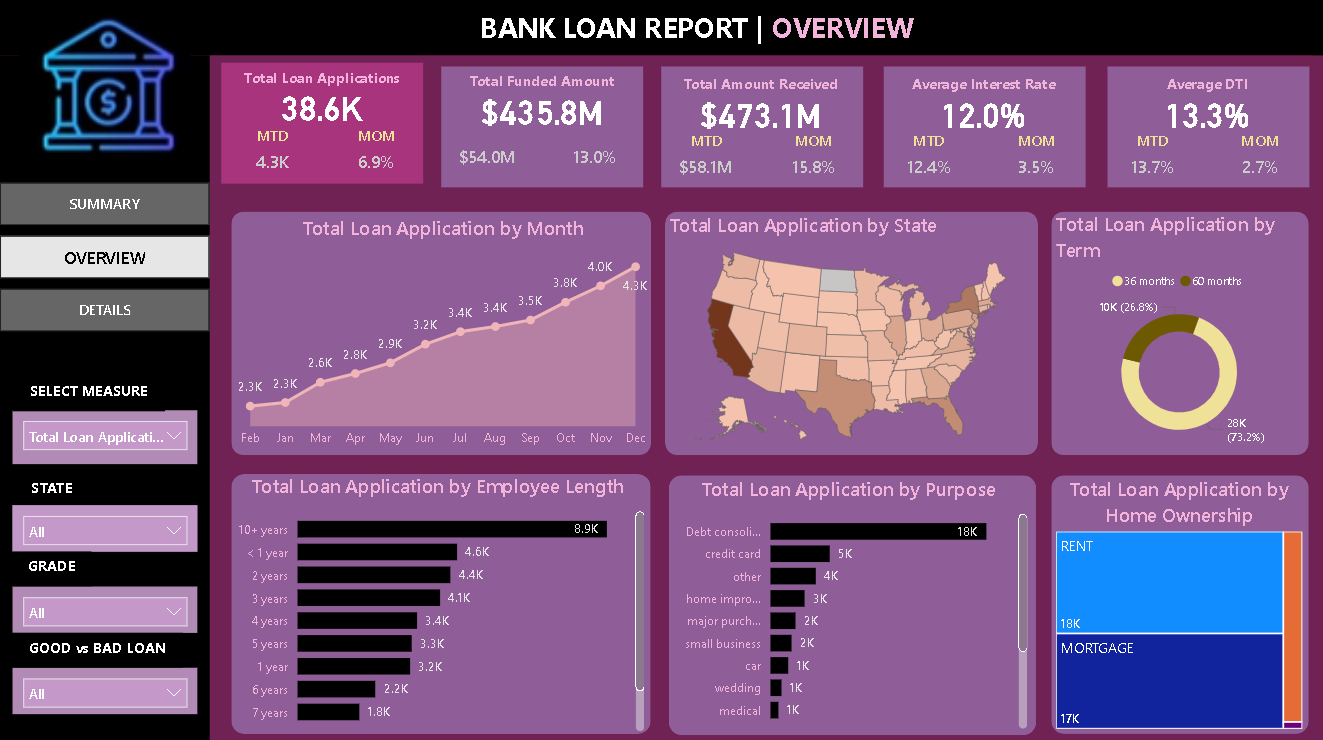

What the dashboard file says about the page in this screenshot:
{"tool":"powerbi","page":{"name":"OVERVIEW","canvas":[1280,720],"ordinal":1},"visuals":[{"type":"shape","box":[0,0,1280,54.3],"z":0},{"type":"shape","box":[213.2,62.1,194.9,116.6],"z":0,"group":"g1"},{"type":"shape","box":[426.7,64.8,194.9,116.6],"z":0,"group":"g2"},{"type":"shape","box":[638.1,64.8,194.9,116.6],"z":0,"group":"g3"},{"type":"shape","box":[852.6,64.8,194.9,116.6],"z":0,"group":"g4"},{"type":"shape","box":[1068.4,64.8,194.9,116.6],"z":0,"group":"g5"},{"type":"shape","box":[1014.9,205,248.5,235.3],"z":0,"group":"g9"},{"type":"shape","box":[641.8,205.1,360,235.3],"z":0,"group":"g6"},{"type":"shape","box":[223.8,205.4,405.4,235.3],"z":0,"group":"g8"},{"type":"shape","box":[223.6,458.4,405,251],"z":0,"group":"g10"},{"type":"shape","box":[645.4,459.7,354.7,250.9],"z":0,"group":"g11"},{"type":"shape","box":[1014.6,459.7,248.5,249.7],"z":0,"group":"g12"},{"type":"textbox","box":[458.4,3.6,437.9,50.7],"z":1000},{"type":"card","fields":{"Values":["Bank_loan_data.Total Loan Application"]},"box":[213.2,62.1,194.9,85.1],"z":1000,"group":"g1"},{"type":"card","fields":{"Values":["Bank_loan_data.Total Funded Amount"]},"box":[426.7,64.8,194.9,85.1],"z":1000,"group":"g2"},{"type":"card","fields":{"Values":["Bank_loan_data.Total Amount Received"]},"box":[637.2,66.8,194.9,85.1],"z":1000,"group":"g3"},{"type":"card","fields":{"Values":["Bank_loan_data.Avg Interest Rate"]},"box":[851.7,66.8,194.9,85.1],"z":1000,"group":"g4"},{"type":"card","fields":{"Values":["Bank_loan_data.Average DTI"]},"box":[1067.5,66.8,194.9,85.1],"z":1000,"group":"g5"},{"type":"areaChart","fields":{"Y":["Bank_loan_data.Total Loan Application"],"Category":["Date Table.Month"]},"box":[223.5,208.1,409,234],"z":1000,"group":"g8"},{"type":"shape","box":[0,54.3,202.7,666],"z":1500,"group":"g7"},{"type":"group","id":"g1","title":"Group 1","box":[213.2,62.1,194.3,116],"z":2000},{"type":"textbox","box":[213.2,62.1,194.9,31.6],"z":2000,"group":"g1"},{"type":"textbox","box":[426.7,64.8,194.9,31.6],"z":2000,"group":"g2"},{"type":"textbox","box":[637.2,66.8,194.9,31.6],"z":2000,"group":"g3"},{"type":"textbox","box":[851.7,66.8,194.9,31.6],"z":2000,"group":"g4"},{"type":"textbox","box":[1067.5,66.8,194.9,31.6],"z":2000,"group":"g5"},{"type":"group","id":"g2","title":"Group 1","box":[426.3,64.8,194.3,116],"z":3000},{"type":"card","title":"MTD","fields":{"Values":["Bank_loan_data.MTD Loan Application"]},"box":[213.6,123.2,98.8,54.9],"z":3000,"group":"g1"},{"type":"card","title":"MTD","fields":{"Values":["Bank_loan_data.MTD Funded Amount"]},"box":[426.3,125.9,89.2,54.9],"z":3000,"group":"g2"},{"type":"card","title":"MTD","fields":{"Values":["Bank_loan_data.MTD Received Amount"]},"box":[636.8,127.9,89.2,54.9],"z":3000,"group":"g3"},{"type":"card","title":"MTD","fields":{"Values":["Bank_loan_data.MTD Avg Interest Rate"]},"box":[851.3,127.9,89.2,54.9],"z":3000,"group":"g4"},{"type":"card","title":"MTD","fields":{"Values":["Bank_loan_data.MTD DTI"]},"box":[1067.1,127.9,89.2,54.9],"z":3000,"group":"g5"},{"type":"shape","box":[1265.6,42.2,14.5,12.1],"z":4000,"group":"g7"},{"type":"group","id":"g3","title":"Group 1","box":[636.8,64.8,197,117.4],"z":4000},{"type":"card","title":"MOM","fields":{"Values":["Bank_loan_data.MOM Loan Applications"]},"box":[317.9,123.2,89.2,54.9],"z":4000,"group":"g1"},{"type":"card","title":"MOM","fields":{"Values":["Bank_loan_data.MOM Total Funded Amount"]},"box":[529.4,125.9,91.9,54.9],"z":4000,"group":"g2"},{"type":"card","title":"MOM","fields":{"Values":["Bank_loan_data.MOM Total Amount Received"]},"box":[739.9,127.9,91.9,54.9],"z":4000,"group":"g3"},{"type":"card","title":"MOM","fields":{"Values":["Bank_loan_data.MOM total Received Amount"]},"box":[954.4,127.9,91.9,54.9],"z":4000,"group":"g4"},{"type":"card","title":"MOM","fields":{"Values":["Bank_loan_data.MOM DTI"]},"box":[1170.2,127.9,91.9,54.9],"z":4000,"group":"g5"},{"type":"group","id":"g4","title":"Group 1","box":[851.3,64.8,197,117.4],"z":5000},{"type":"group","id":"g5","title":"Group 1","box":[1067.1,64.8,197,117.4],"z":6000},{"type":"group","id":"g6","title":"Group 3","box":[641.8,205.1,360,235.3],"z":7000},{"type":"group","id":"g7","title":"Group 4","box":[0,42.2,1280,678],"z":8000},{"type":"slicer","fields":{"Values":["Bank_loan_data.address_state"]},"box":[12.1,488.6,178.6,44.6],"z":9000},{"type":"slicer","fields":{"Values":["Bank_loan_data.grade"]},"box":[12.1,567,178.6,44.6],"z":10000},{"type":"textbox","box":[12.1,533.2,76,33.8],"z":11000},{"type":"slicer","fields":{"Values":["Bank_loan_data.Good vs Bad loan"]},"box":[12.1,645.4,178.6,44.6],"z":12000},{"type":"textbox","box":[12.1,611.7,164.1,33.8],"z":13000},{"type":"slicer","fields":{"Values":["Select Measure.Select Measure"]},"box":[12.1,396.9,178.6,51.9],"z":14000},{"type":"textbox","box":[25.3,457.2,76,33.8],"z":14002,"group":"g7"},{"type":"slicer","fields":{"Values":["Bank_loan_data.address_state"]},"box":[12.1,488.6,178.6,44.6],"z":14500,"group":"g7"},{"type":"textbox","box":[12.1,364.3,147.2,33.8],"z":15000},{"type":"group","id":"g8","title":"Group 3","box":[223.5,205.4,409,236.5],"z":16000},{"type":"shapeMap","fields":{"Value":["Bank_loan_data.Total Loan Application"],"Category":["Bank_loan_data.address_state"]},"box":[641.8,205.1,358.3,235.3],"z":17000},{"type":"group","id":"g9","title":"Group 3","box":[1014.9,205,248.5,235.3],"z":18000},{"type":"donutChart","fields":{"Y":["Bank_loan_data.Total Loan Application"],"Category":["Bank_loan_data.term"]},"box":[1014.6,203.9,247.3,235.3],"z":19000},{"type":"group","id":"g10","title":"Group 3","box":[218.4,457.2,410.2,254.6],"z":20000},{"type":"barChart","fields":{"Y":["Bank_loan_data.Total Loan Application"],"Category":["Bank_loan_data.emp_length"]},"box":[218.4,457.2,408.6,254.6],"z":20001,"group":"g10"},{"type":"group","id":"g11","title":"Group 3","box":[645.4,459.7,354.7,250.9],"z":21000},{"type":"barChart","fields":{"Y":["Bank_loan_data.Total Loan Application"],"Category":["Bank_loan_data.purpose"]},"box":[641.8,459.7,354.7,249.7],"z":22000},{"type":"group","id":"g12","title":"Group 3","box":[1014.6,459.7,248.5,249.7],"z":23000},{"type":"treemap","fields":{"Values":["Bank_loan_data.Total Loan Application"],"Group":["Bank_loan_data.home_ownership"]},"box":[1014.6,459.7,247.3,249.7],"z":24000},{"type":"pageNavigator","box":[0,177.3,202.7,144.8],"z":25000},{"type":"image","box":[0,0,202.7,179.8],"z":26000}]}

Visuals, with their boxes in screenshot pixels (x1, y1, x2, y2), scaled from the page's 1280x720 canvas onto the 1323x740 screenshot:
shape: 0,0,1322,56
shape: 220,64,422,184
shape: 441,67,642,186
shape: 660,67,861,186
shape: 881,67,1083,186
shape: 1104,67,1306,186
shape: 1049,211,1306,453
shape: 663,211,1035,453
shape: 231,211,650,453
shape: 231,471,650,729
shape: 667,472,1034,730
shape: 1049,472,1306,729
textbox: 474,4,926,56
card - Bank_loan_data.Total Loan Application: 220,64,422,151
card - Bank_loan_data.Total Funded Amount: 441,67,642,154
card - Bank_loan_data.Total Amount Received: 659,69,860,156
card - Bank_loan_data.Avg Interest Rate: 880,69,1082,156
card - Bank_loan_data.Average DTI: 1103,69,1305,156
areaChart - Bank_loan_data.Total Loan Application x Date Table.Month: 231,214,654,454
shape: 0,56,210,739
"Group 1" group: 220,64,421,183
textbox: 220,64,422,96
textbox: 441,67,642,99
textbox: 659,69,860,101
textbox: 880,69,1082,101
textbox: 1103,69,1305,101
"Group 1" group: 441,67,641,186
"MTD" card: 221,127,323,183
"MTD" card: 441,129,533,186
"MTD" card: 658,131,750,188
"MTD" card: 880,131,972,188
"MTD" card: 1103,131,1195,188
shape: 1308,43,1322,56
"Group 1" group: 658,67,862,187
"MOM" card: 329,127,421,183
"MOM" card: 547,129,642,186
"MOM" card: 765,131,860,188
"MOM" card: 986,131,1081,188
"MOM" card: 1210,131,1304,188
"Group 1" group: 880,67,1084,187
"Group 1" group: 1103,67,1307,187
"Group 3" group: 663,211,1035,453
"Group 4" group: 0,43,1322,739
slicer - Bank_loan_data.address_state: 13,502,197,548
slicer - Bank_loan_data.grade: 13,583,197,629
textbox: 13,548,91,583
slicer - Bank_loan_data.Good vs Bad loan: 13,663,197,709
textbox: 13,629,182,663
slicer - Select Measure.Select Measure: 13,408,197,461
textbox: 26,470,105,505
slicer - Bank_loan_data.address_state: 13,502,197,548
textbox: 13,374,165,409
"Group 3" group: 231,211,654,454
shapeMap - Bank_loan_data.Total Loan Application x Bank_loan_data.address_state: 663,211,1034,453
"Group 3" group: 1049,211,1306,453
donutChart - Bank_loan_data.Total Loan Application x Bank_loan_data.term: 1049,210,1304,451
"Group 3" group: 226,470,650,732
barChart - Bank_loan_data.Total Loan Application x Bank_loan_data.emp_length: 226,470,648,732
"Group 3" group: 667,472,1034,730
barChart - Bank_loan_data.Total Loan Application x Bank_loan_data.purpose: 663,472,1030,729
"Group 3" group: 1049,472,1306,729
treemap - Bank_loan_data.Total Loan Application x Bank_loan_data.home_ownership: 1049,472,1304,729
pageNavigator: 0,182,210,331
image: 0,0,210,185
